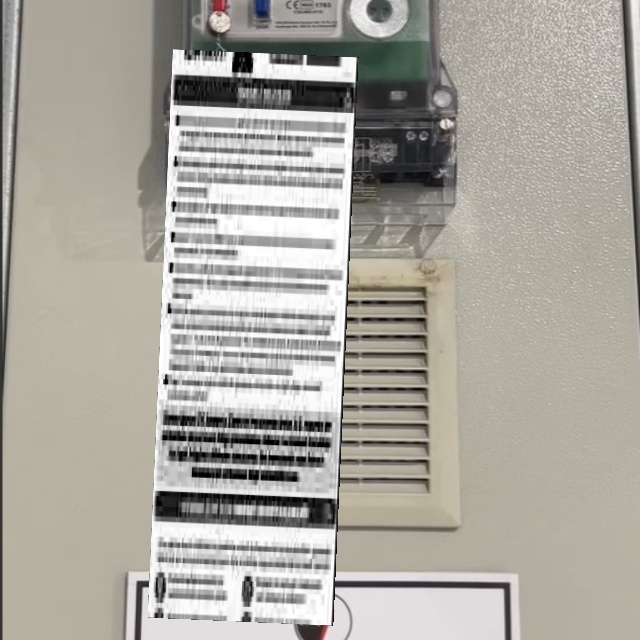electricity-bill: (148, 49, 359, 626)
